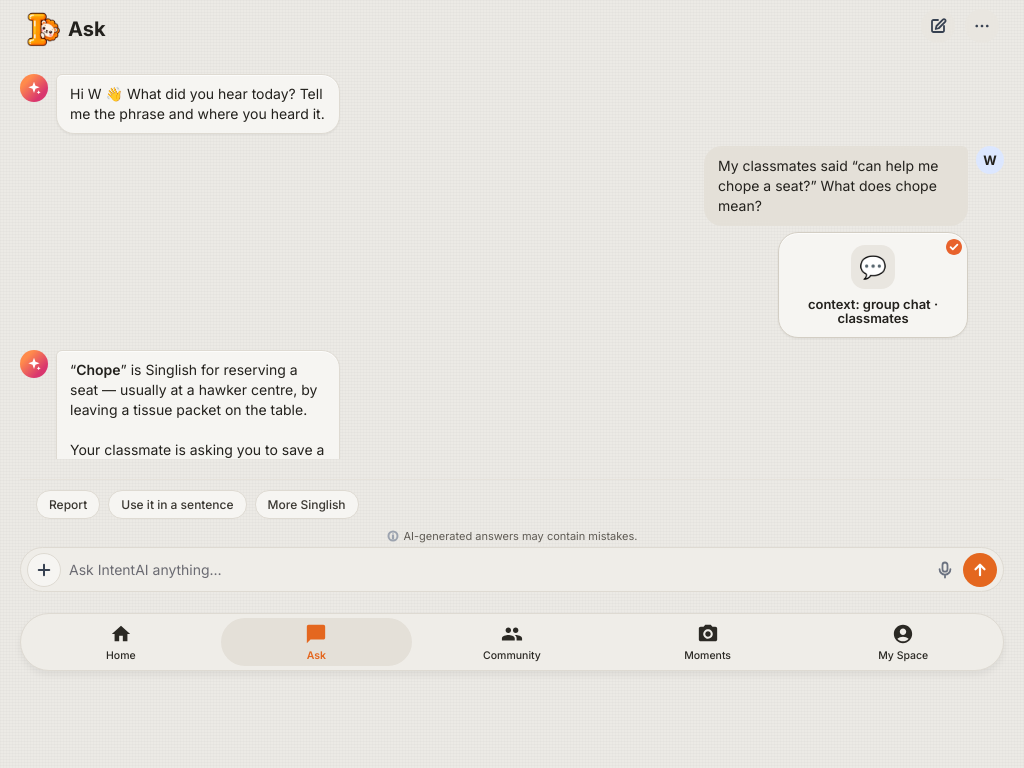
Test: changing the context on a message re-answers that message in the new setting
Click the button "💬 context: group chat · classmates": x=873, y=285 [778,232,968,338]
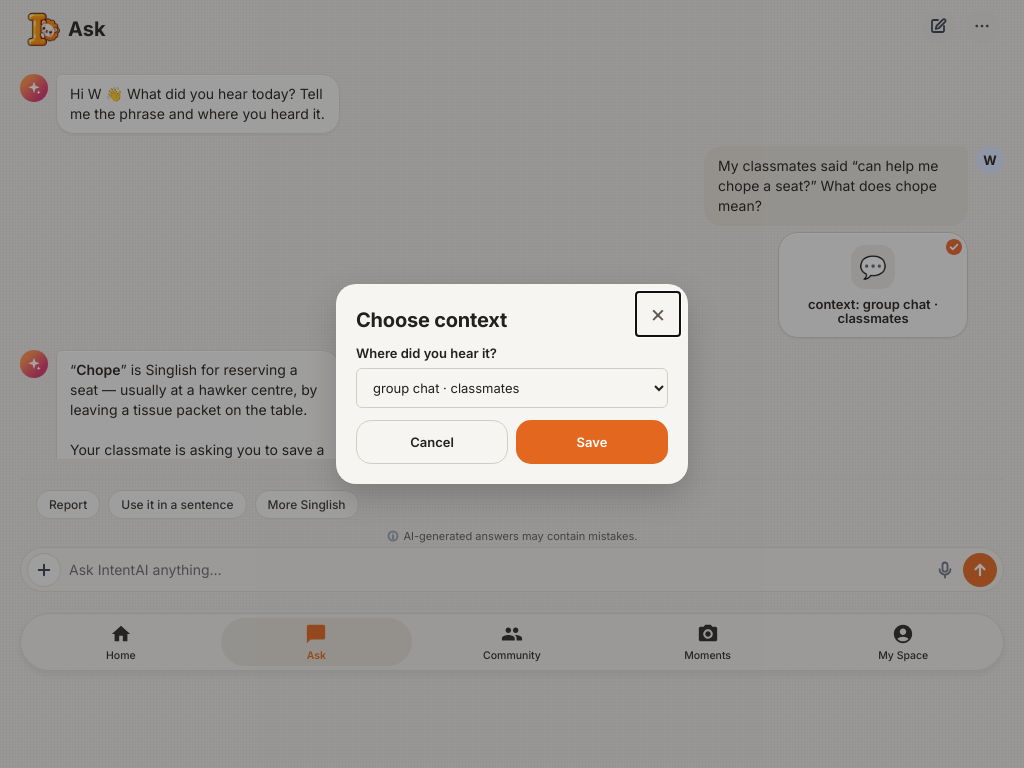
Select "At home · friends" in the dropdown labelled "Where did you hear it?": x=512, y=388 [356,368,668,408]
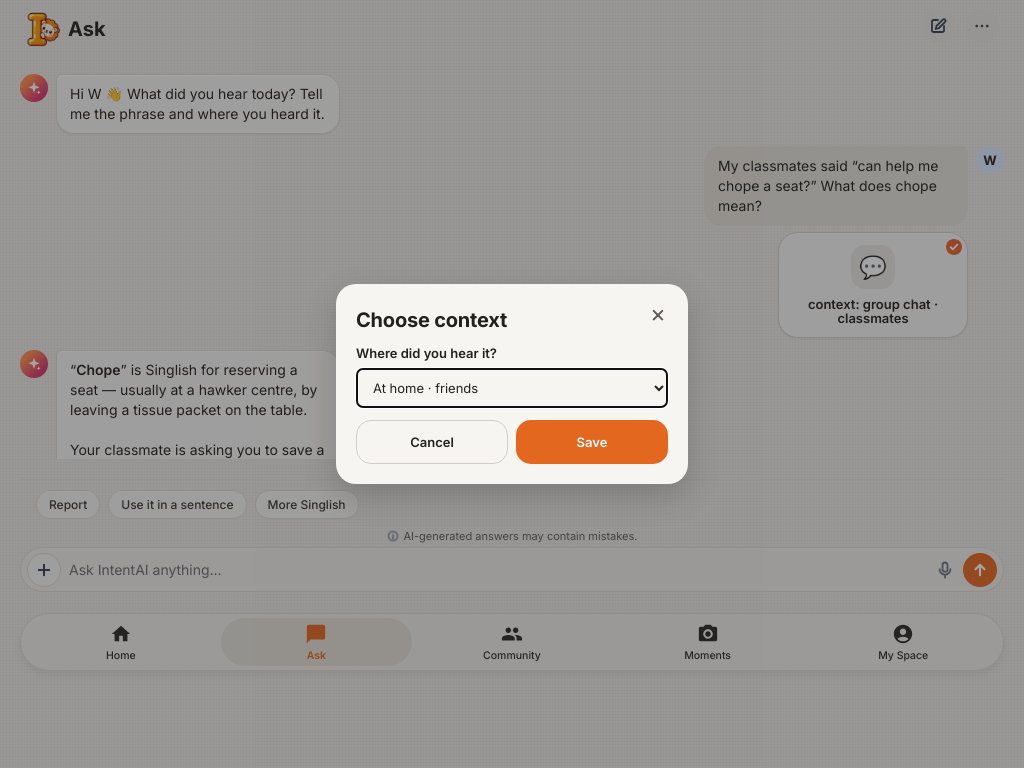
Click the button "Save": x=592, y=442 [516,420,668,464]
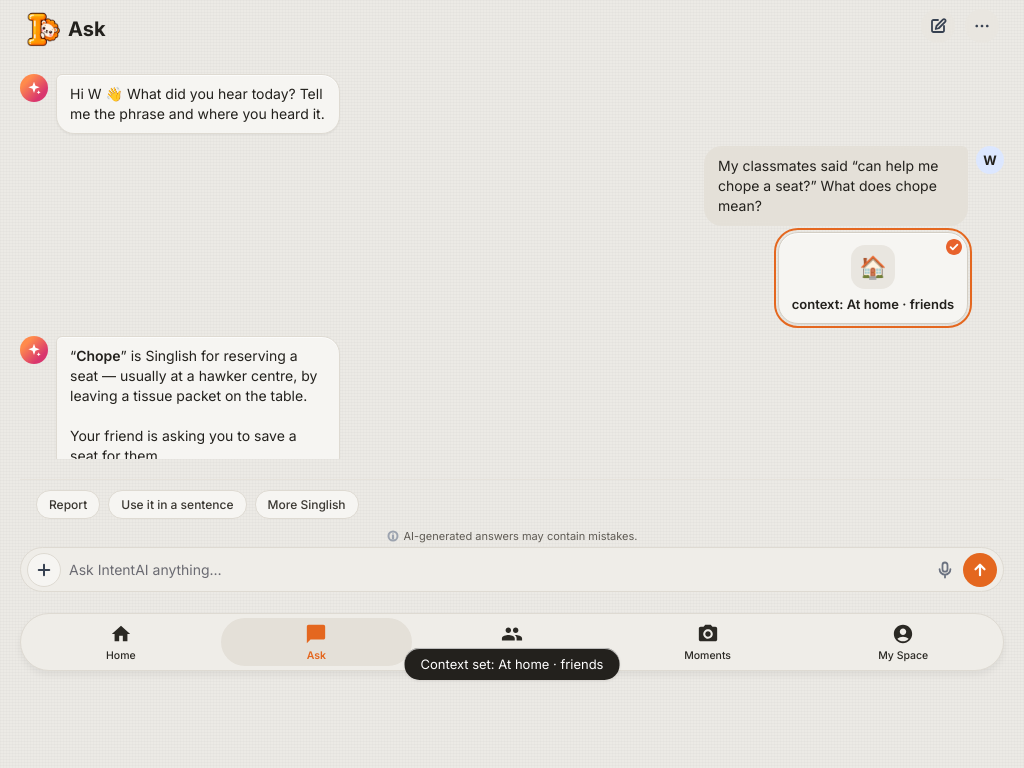
Expected: the button "🏠 context: At home · friends" is shown, [778,232,968,324]
Expected: the element named "IntentAI answer" shows "Your friend is asking you to save a seat for them.", [70,427,297,459]
